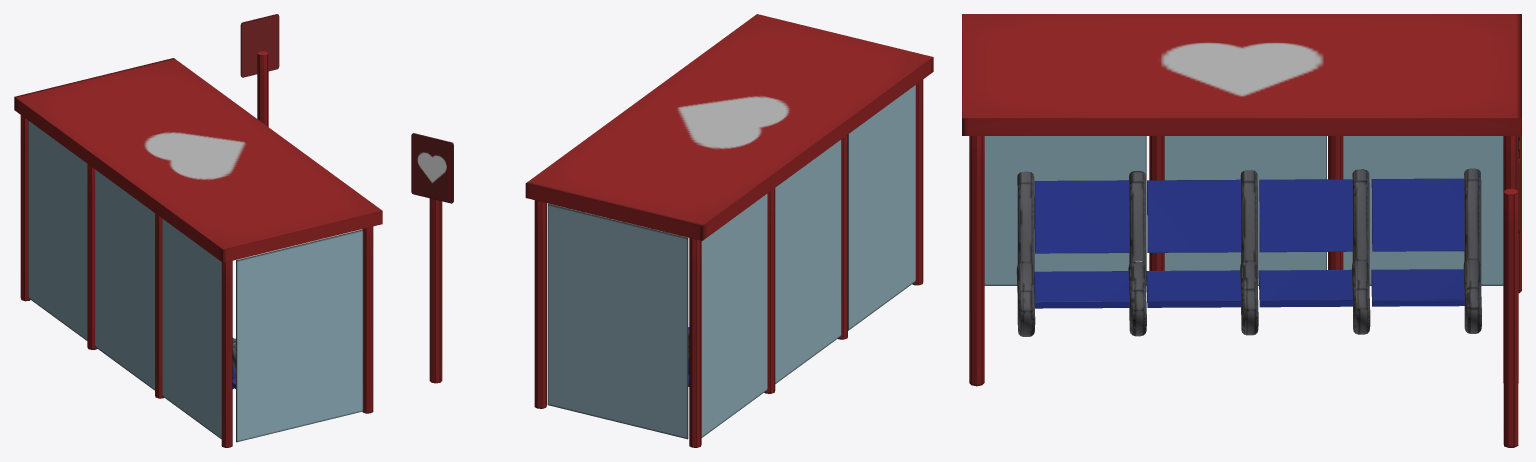
The model's file is parada_onibus_Verde_Texturizada.fbx.
3 views of the same model, side by side, from view 1: azimuth 30°, elevation 25°; view 2: azimuth 150°, elevation 25°; view 3: azimuth 270°, elevation 25° (orthographic). The views are drawn at different scales.
Parts seen in each view (by area): view 1: BezierCurve.001; view 2: BezierCurve.001; view 3: BezierCurve.001.
Boxes of the visible parts, x1,y1,x2,y2 form: BezierCurve.001: (14, 14, 382, 447); BezierCurve.001: (411, 14, 933, 447); BezierCurve.001: (962, 14, 1521, 447).
Bounding box in the file's own units: 289 × 237 × 397.
1 material, 1 textured.
